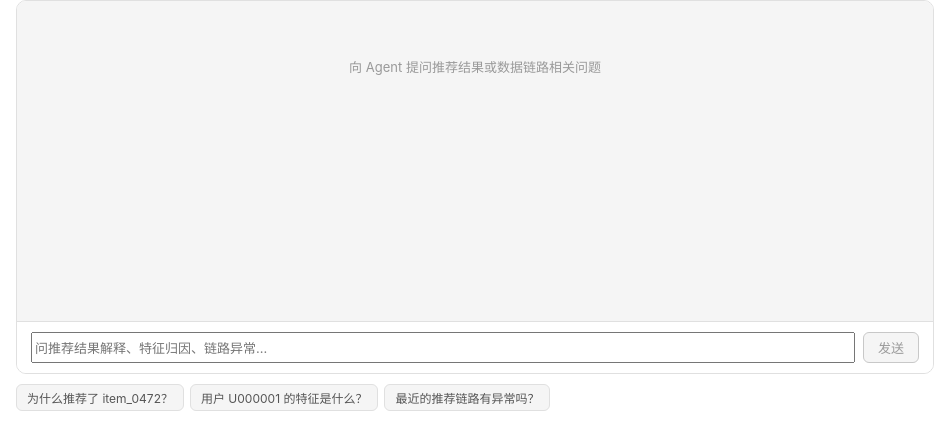
Test: AgentChat › receives SSE chunks and updates AI bubble
The width and height of the screenshot is (951, 428).
Type "hello" into the field with placeholder "问推荐结果解释、特征归因、链路异常…" at (443, 348), box [31,332,855,363]
Then press Enter
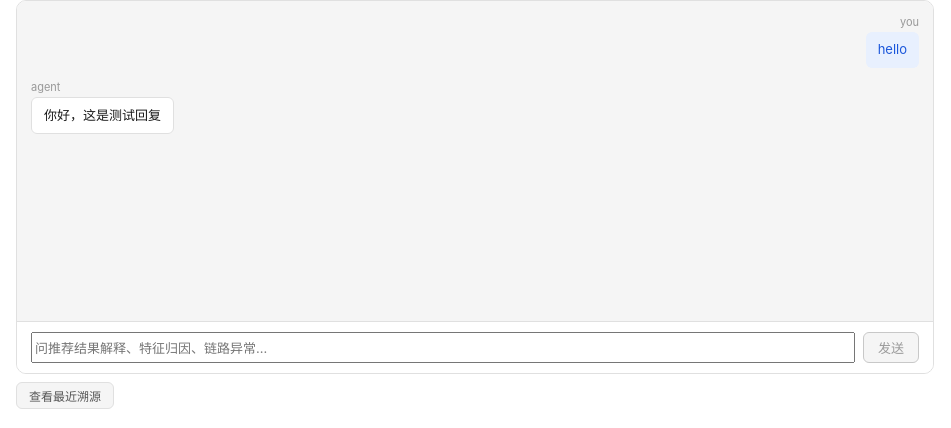
Now the text "你好，这是测试回复" is shown, box [44,106,161,125]
